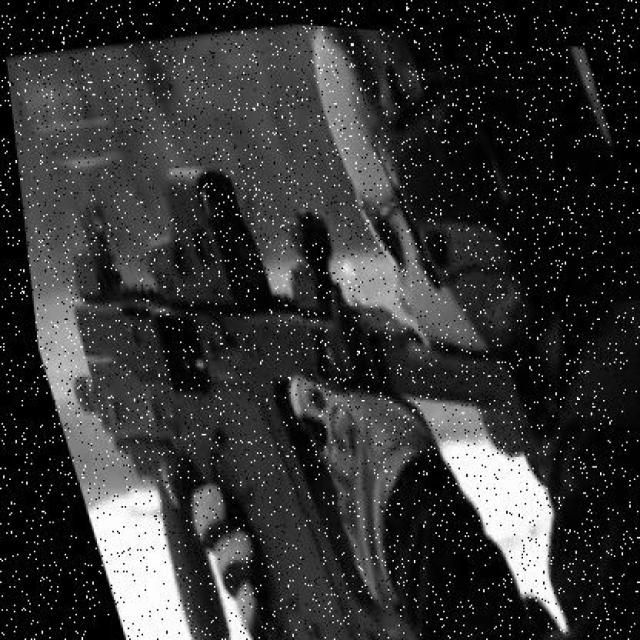weapon: (68, 164, 566, 639)
